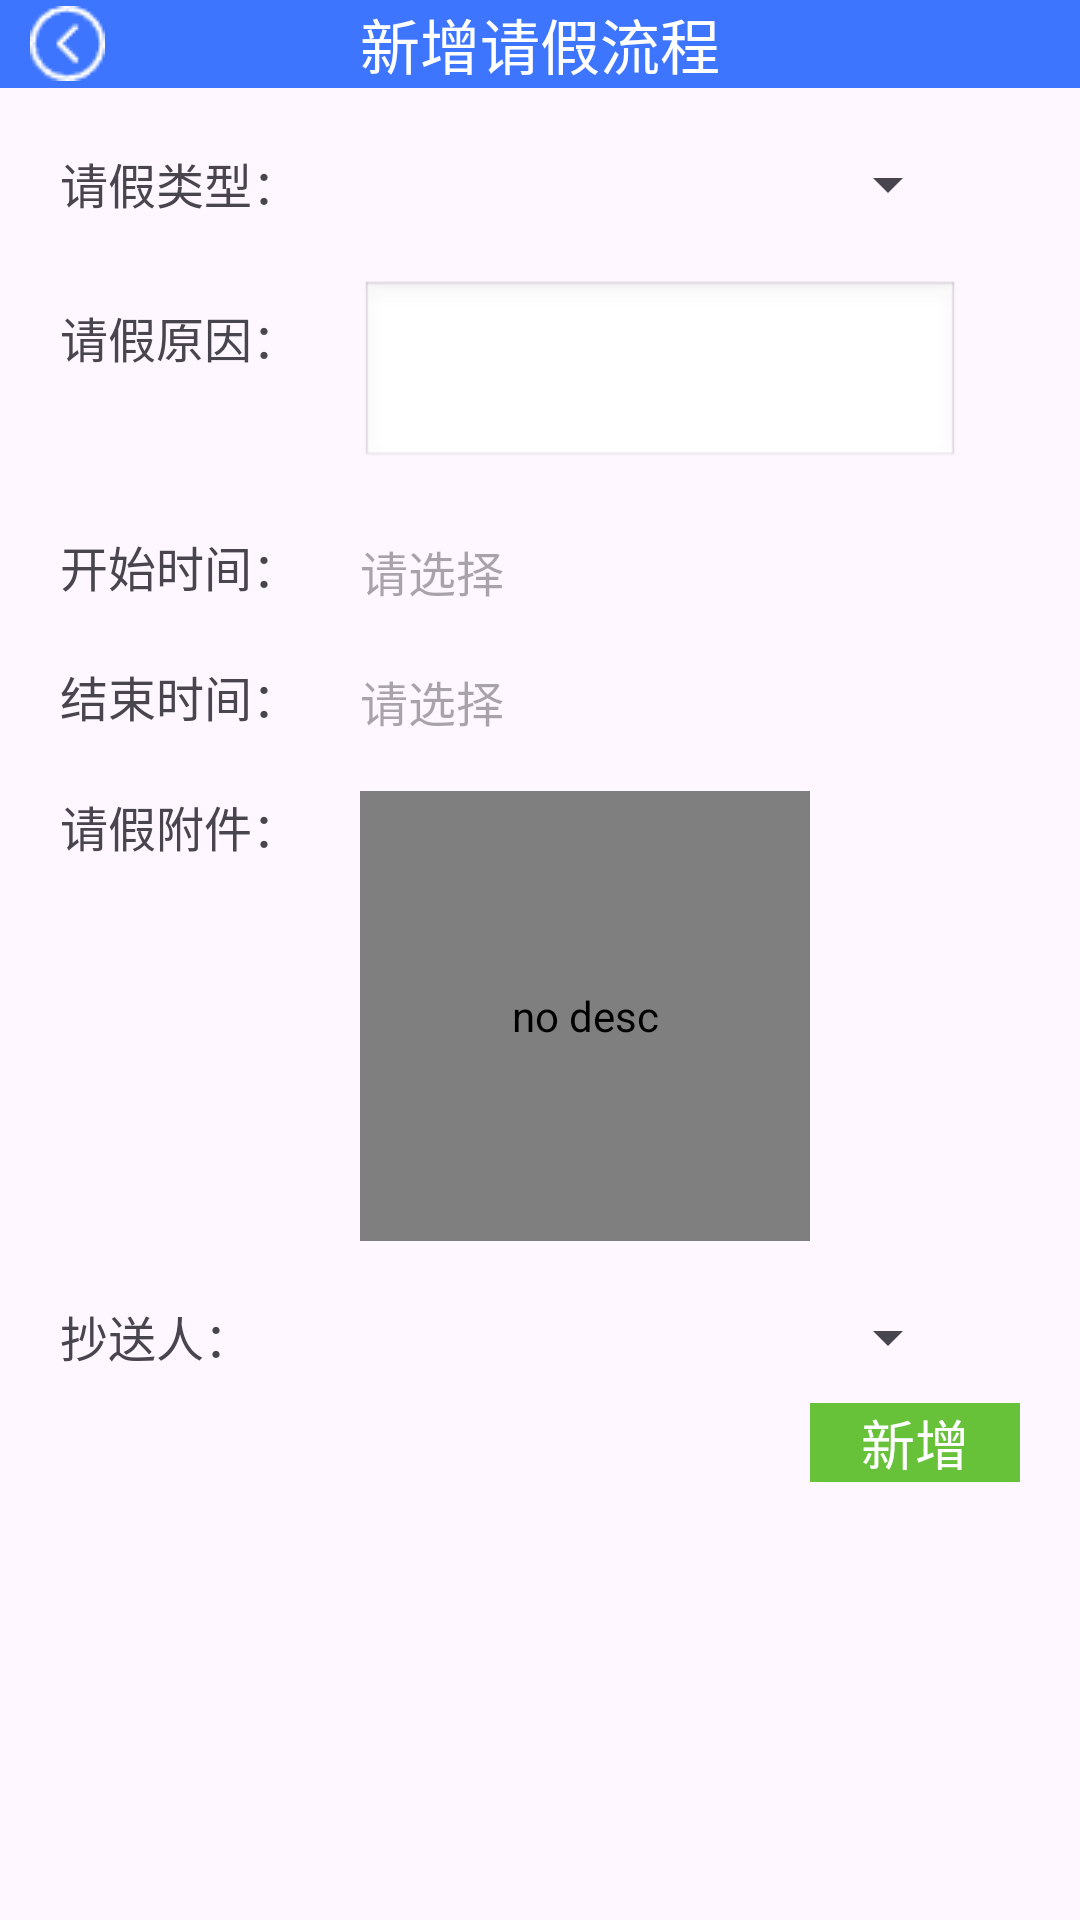

Named icons in this screenshot (1080x1920) and their bounding boxes, (x1, y1, x2, y2):
back: (30, 6, 105, 81)
